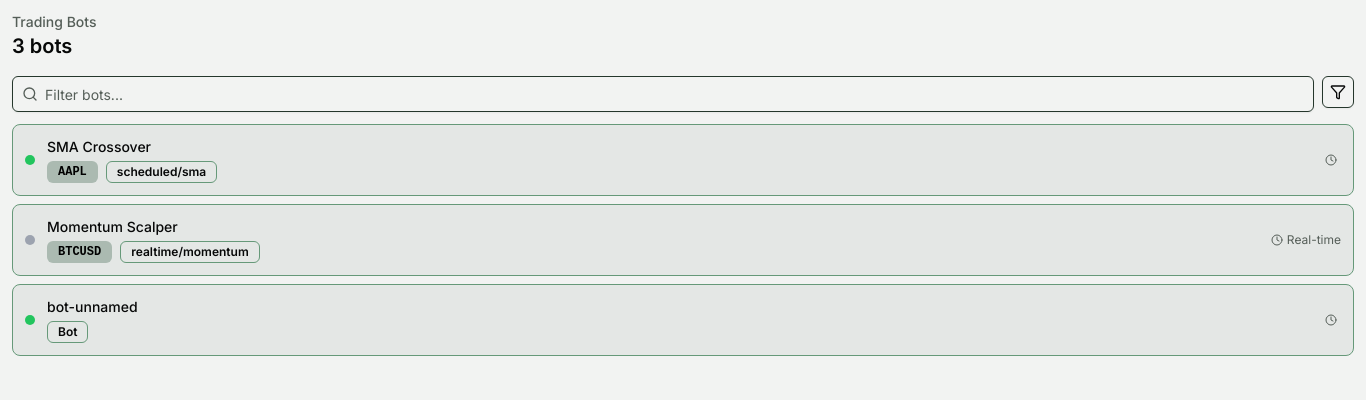
Scenario: DashboardPage › mobile filtering › offers type and status filters
Click the button named "Filter bots" at [1338, 92], box [1322,76,1354,108]
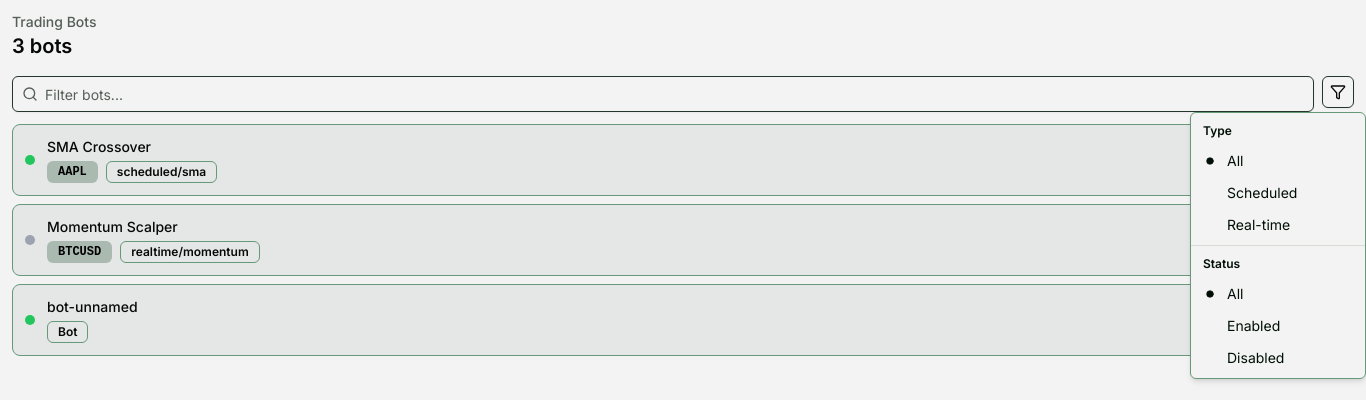
Expected: the text "Type" is shown, [1203,123,1232,138]
Expected: the text "Status" is shown, [1203,256,1240,271]
